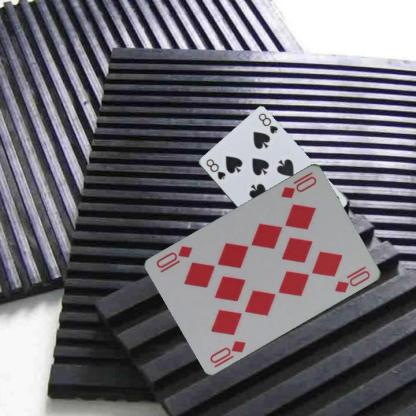10d: (207, 338, 248, 368), (278, 169, 318, 199)
8s: (204, 156, 226, 181)
